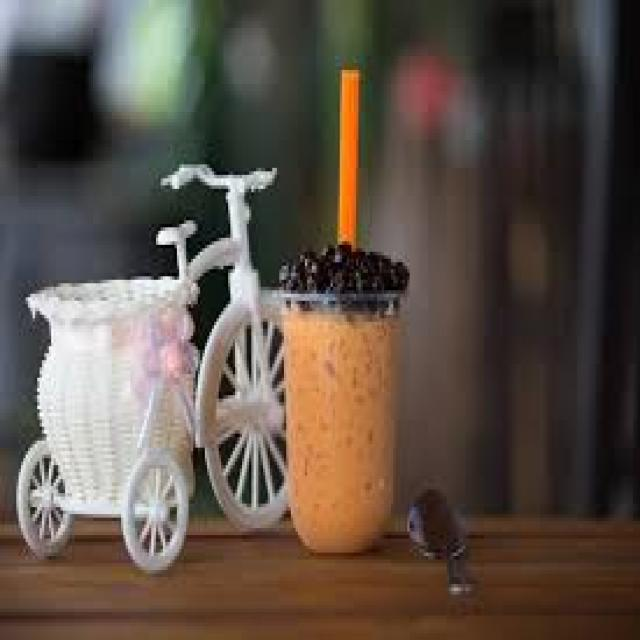bottle: (276, 291, 404, 551)
